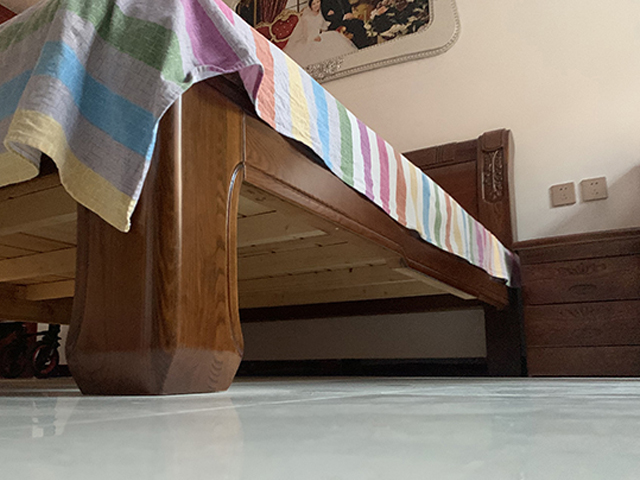bed: (1, 1, 526, 397)
cabinet: (511, 227, 640, 378)
